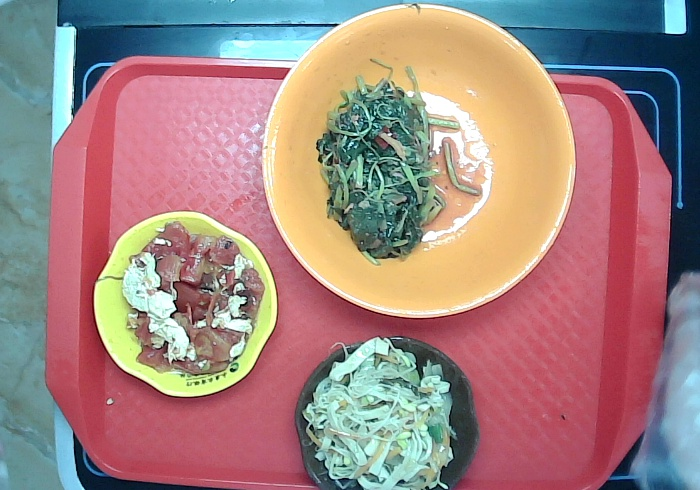YKMZ-Huang_Se_Ao_Bian_Wan: (85, 206, 281, 401)
YKMZ-Ju_Se_Tang_Wan: (261, 1, 582, 328)
YKMZ-Ka_Fei_Ao_Bian_Wan: (293, 332, 483, 490)
